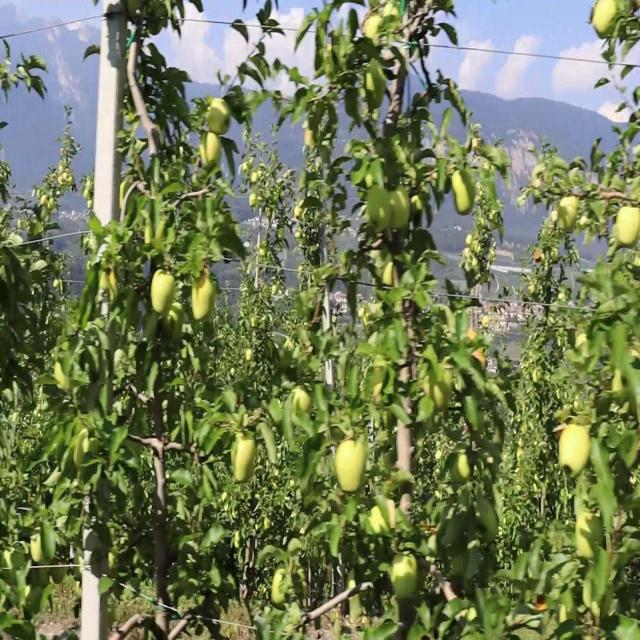apple: (336, 440, 367, 496), (560, 426, 592, 478), (232, 433, 257, 484), (392, 554, 419, 601), (452, 170, 477, 215), (152, 270, 176, 315), (192, 277, 216, 322), (616, 206, 640, 249), (576, 511, 596, 562), (592, 0, 618, 39), (432, 369, 455, 412), (368, 191, 390, 235), (144, 220, 169, 256), (208, 99, 232, 135), (392, 191, 412, 233), (200, 135, 224, 169), (372, 504, 396, 537), (164, 305, 185, 341), (364, 14, 383, 52), (612, 369, 630, 409), (72, 433, 91, 469), (364, 71, 387, 98), (560, 199, 578, 233), (344, 92, 363, 124), (452, 455, 472, 484), (368, 85, 387, 112), (464, 604, 479, 638), (272, 568, 285, 606), (56, 362, 71, 393), (292, 391, 312, 414), (32, 540, 47, 564), (108, 277, 119, 306), (532, 170, 545, 194), (304, 127, 317, 151), (384, 263, 395, 288), (120, 184, 128, 210), (100, 270, 108, 293), (248, 348, 254, 364), (588, 234, 596, 245)
